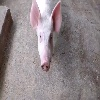heo: (28, 1, 62, 73)
